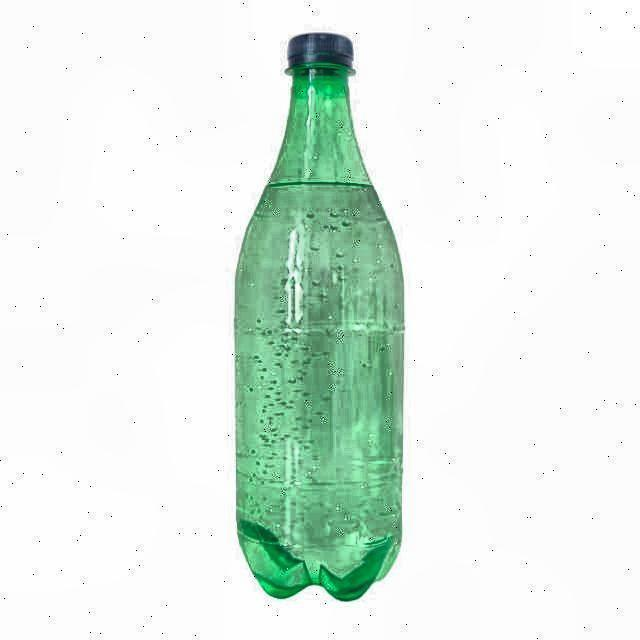plastic: (233, 30, 406, 605)
